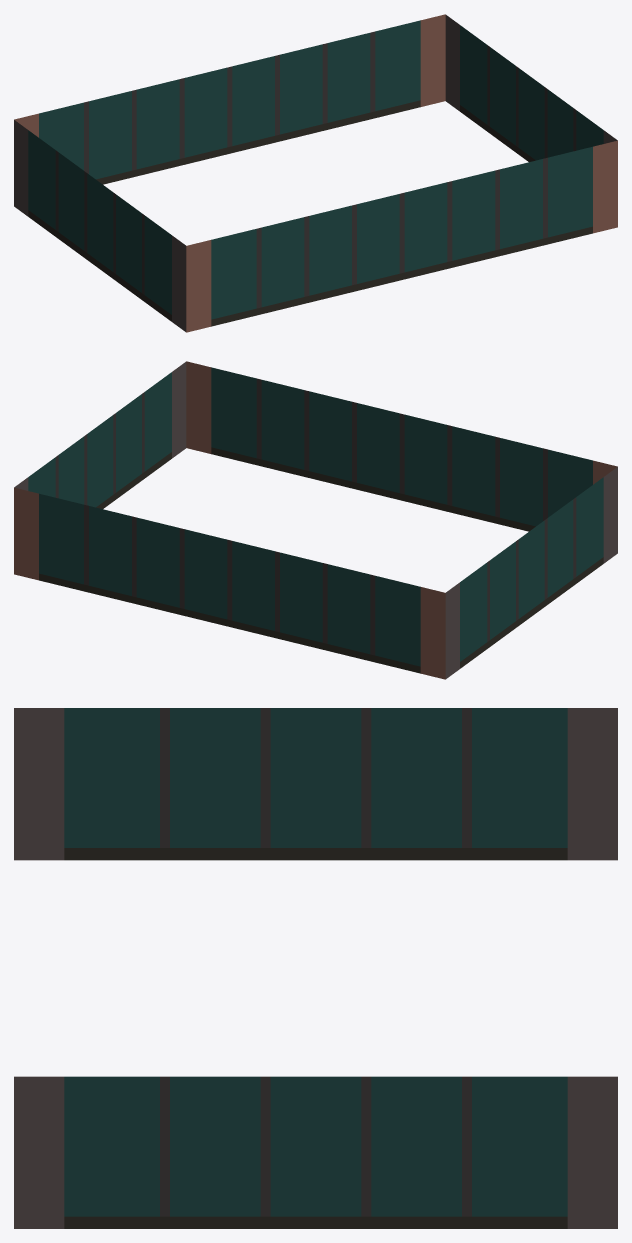
File: TB_CITY_Skysc_A_BodyC_Red.FBX
3 views of the same model, one above another, from view 1: azimuth 30°, elevation 25°; view 2: azimuth 150°, elevation 25°; view 3: azimuth 270°, elevation 25° (orthographic). The views are drawn at different scales.
Visible parts, largest first — view 1: TB_CITY_Skysc_A_BodyC_Red; view 2: TB_CITY_Skysc_A_BodyC_Red; view 3: TB_CITY_Skysc_A_BodyC_Red.
Part boxes in pixels (left/top/right/bottom): TB_CITY_Skysc_A_BodyC_Red: left=14, top=14, right=617, bottom=332; TB_CITY_Skysc_A_BodyC_Red: left=14, top=361, right=617, bottom=679; TB_CITY_Skysc_A_BodyC_Red: left=14, top=708, right=617, bottom=1228.
Bounding box in the file's own units: 26 × 5 × 18.
